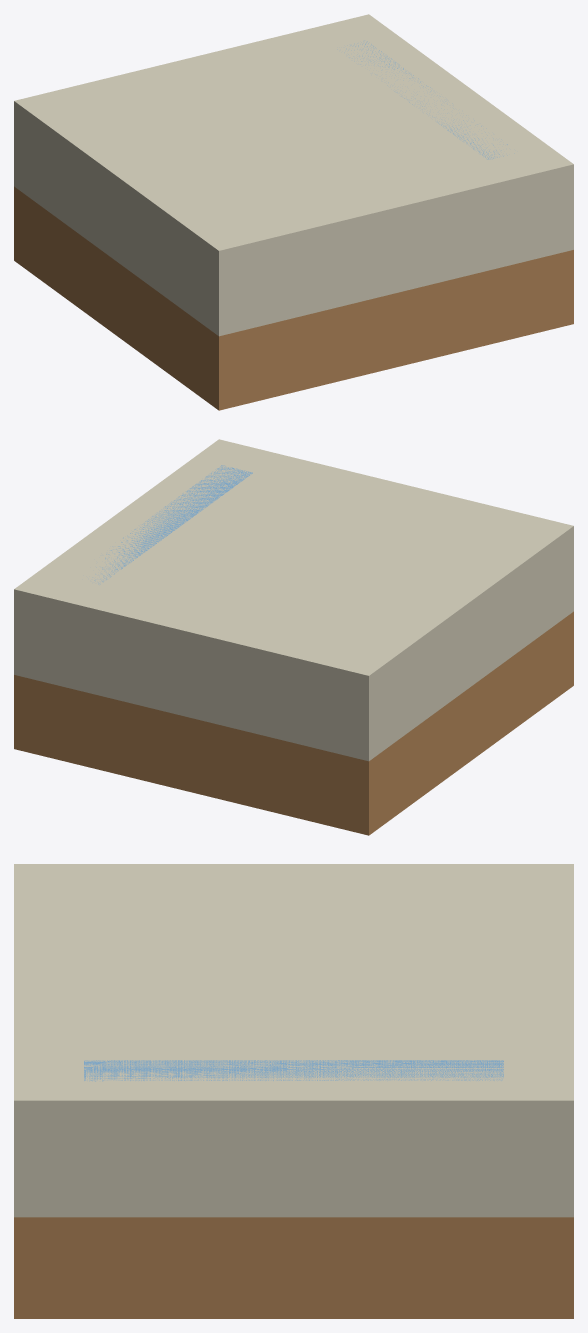
Rendered from Building 61.FBX.
3 renders of one model, top to bottom at view 1: azimuth 30°, elevation 25°; view 2: azimuth 150°, elevation 25°; view 3: azimuth 270°, elevation 25°, orthographic. The views are drawn at different scales.
Visible parts, largest first — view 1: Group110, Group111; view 2: Group110, Group111; view 3: Group110, Group111.
Part boxes in pixels (x1=…): Group110: x1=14, y1=14, x2=573, y2=410; Group111: x1=82, y1=40, x2=514, y2=224; Group110: x1=14, y1=439, x2=573, y2=835; Group111: x1=92, y1=465, x2=493, y2=648; Group110: x1=14, y1=864, x2=573, y2=1318; Group111: x1=84, y1=883, x2=503, y2=1081.
Bounding box in the file's own units: 39.37 × 16.93 × 39.37.
